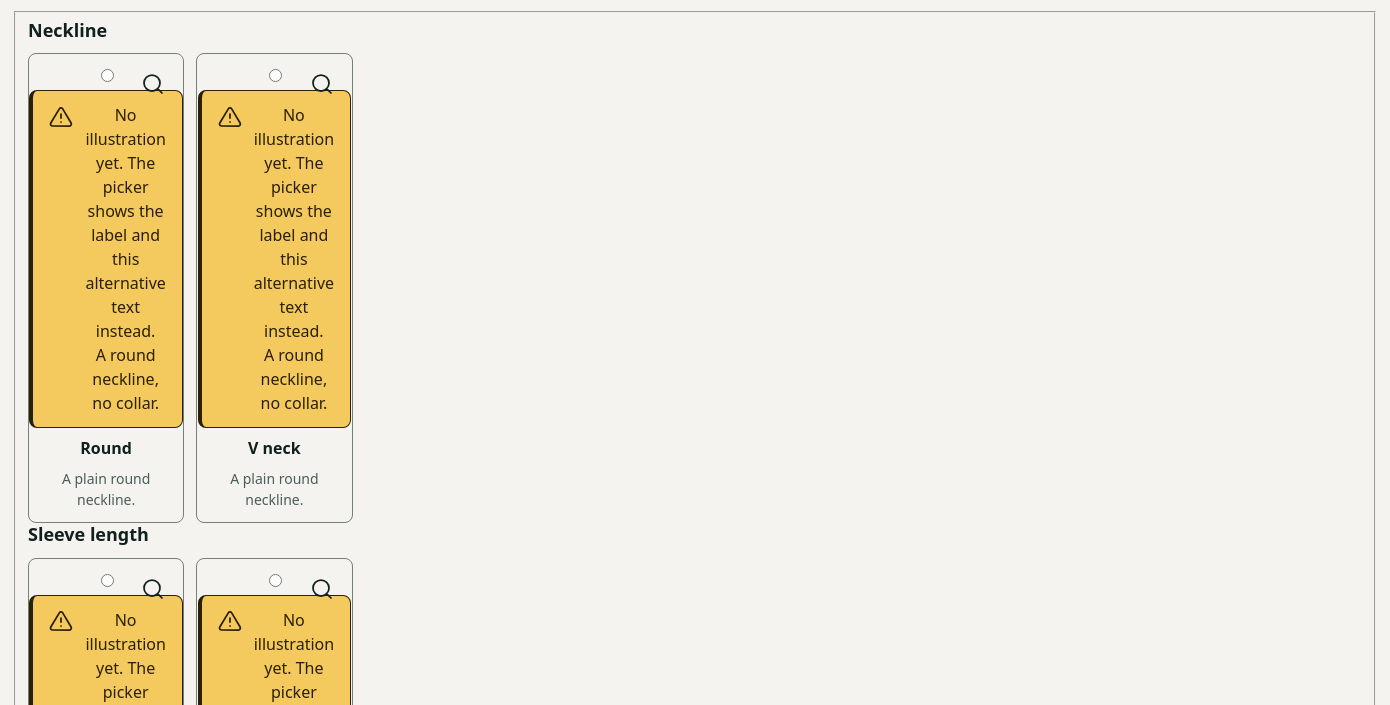
saves the whole selection set with If-Match and a retry key, and the summary shows the choice
The image size is (1390, 705).
Click the radio button with aria-label "Round" at (107, 76), box [101,69,114,82]
(page scrolled)
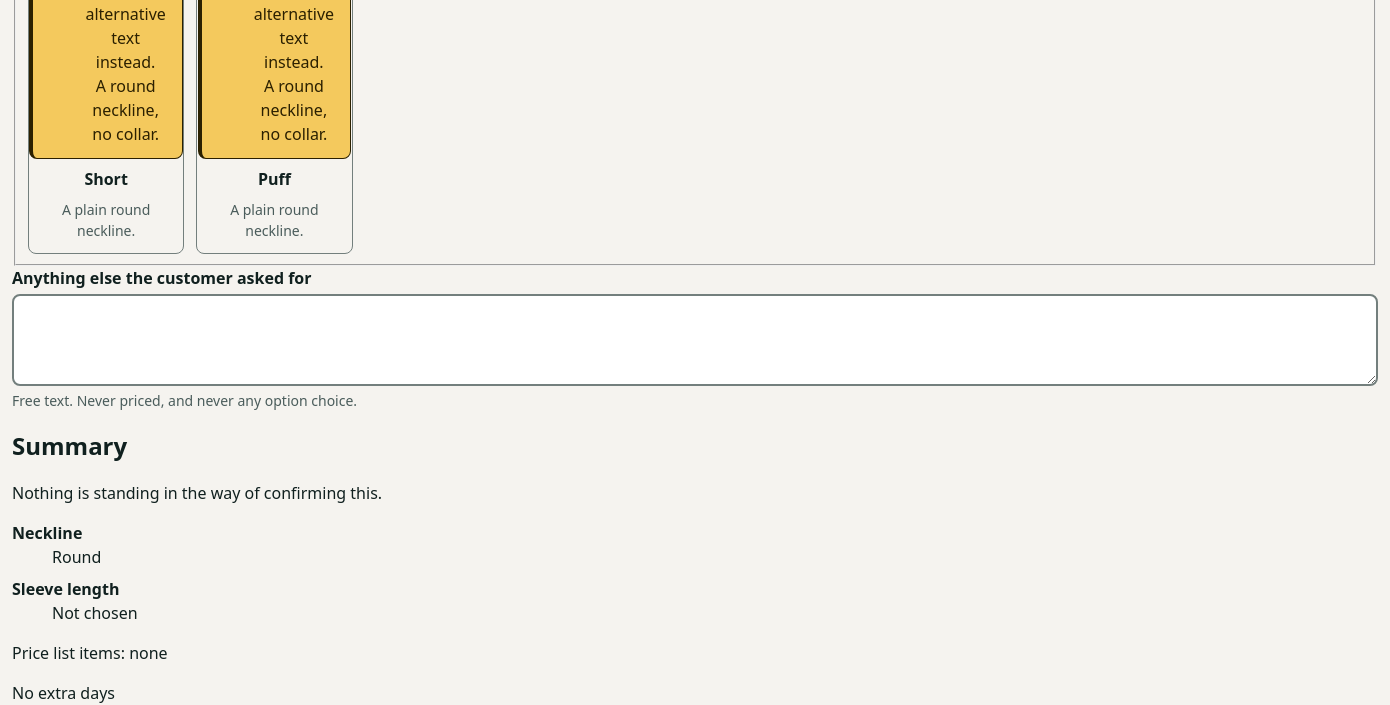
Check: the text "Round" is shown, box [52,546,101,568]
